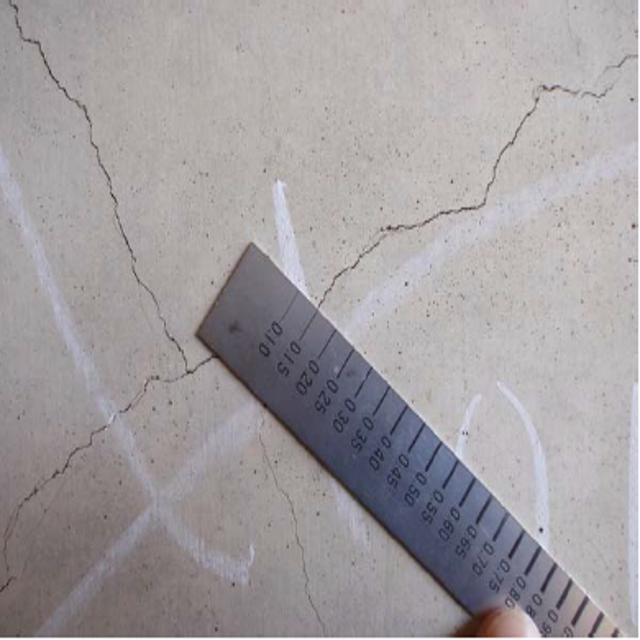crack: (307, 4, 640, 307), (10, 3, 200, 531), (243, 419, 343, 637)
